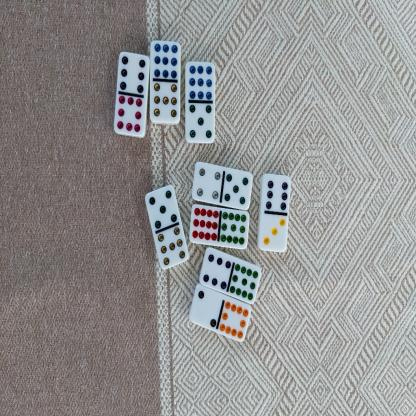pip-10: (219, 298, 251, 343)
pip-11: (219, 207, 249, 251), (229, 261, 260, 303)
pip-12: (188, 205, 218, 245)
pip-2: (189, 282, 219, 327)
pip-3: (258, 213, 288, 253)
pip-4: (191, 161, 222, 202)
pip-5: (144, 183, 177, 231), (221, 169, 253, 210), (184, 102, 216, 142)
pip-6: (116, 49, 150, 94), (199, 247, 230, 290), (261, 172, 291, 214)
pip-7: (149, 79, 180, 125), (157, 225, 187, 270)
pip-8: (113, 92, 146, 138)
pip-9: (149, 40, 181, 80), (184, 61, 216, 101)
